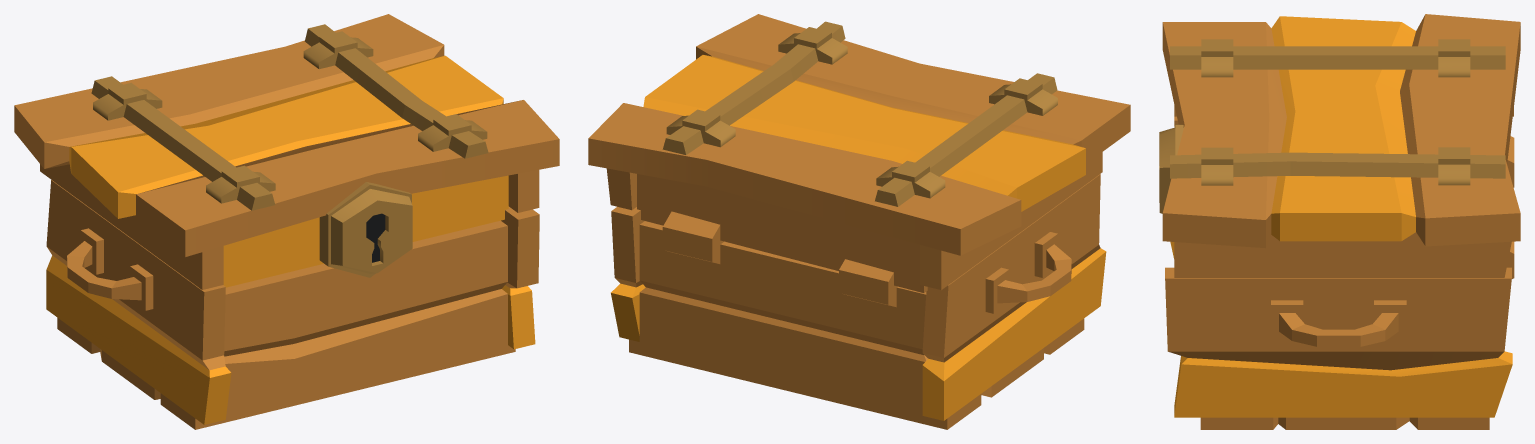
Rendered from SM_Prop_Chest_Wood_01.glb.
3 renders of one model, left to right at view 1: azimuth 30°, elevation 25°; view 2: azimuth 150°, elevation 25°; view 3: azimuth 270°, elevation 25°, orthographic. The views are drawn at different scales.
Visible parts, largest first — view 1: SM_Prop_Chest_Wood_Lid, SM_Prop_Chest_Wood_01; view 2: SM_Prop_Chest_Wood_Lid, SM_Prop_Chest_Wood_01; view 3: SM_Prop_Chest_Wood_Lid, SM_Prop_Chest_Wood_01.
Boxes of the visible parts, x1,y1,x2,y2 form: SM_Prop_Chest_Wood_Lid: (14,14,559,289); SM_Prop_Chest_Wood_01: (46,180,539,429); SM_Prop_Chest_Wood_Lid: (588,14,1130,292); SM_Prop_Chest_Wood_01: (611,174,1106,429); SM_Prop_Chest_Wood_Lid: (1159,14,1520,277); SM_Prop_Chest_Wood_01: (1165,116,1514,429).
Bounding box in the file's own units: 0.7693 × 0.4167 × 0.5495.
Materials: 1 (1 with a texture image).
